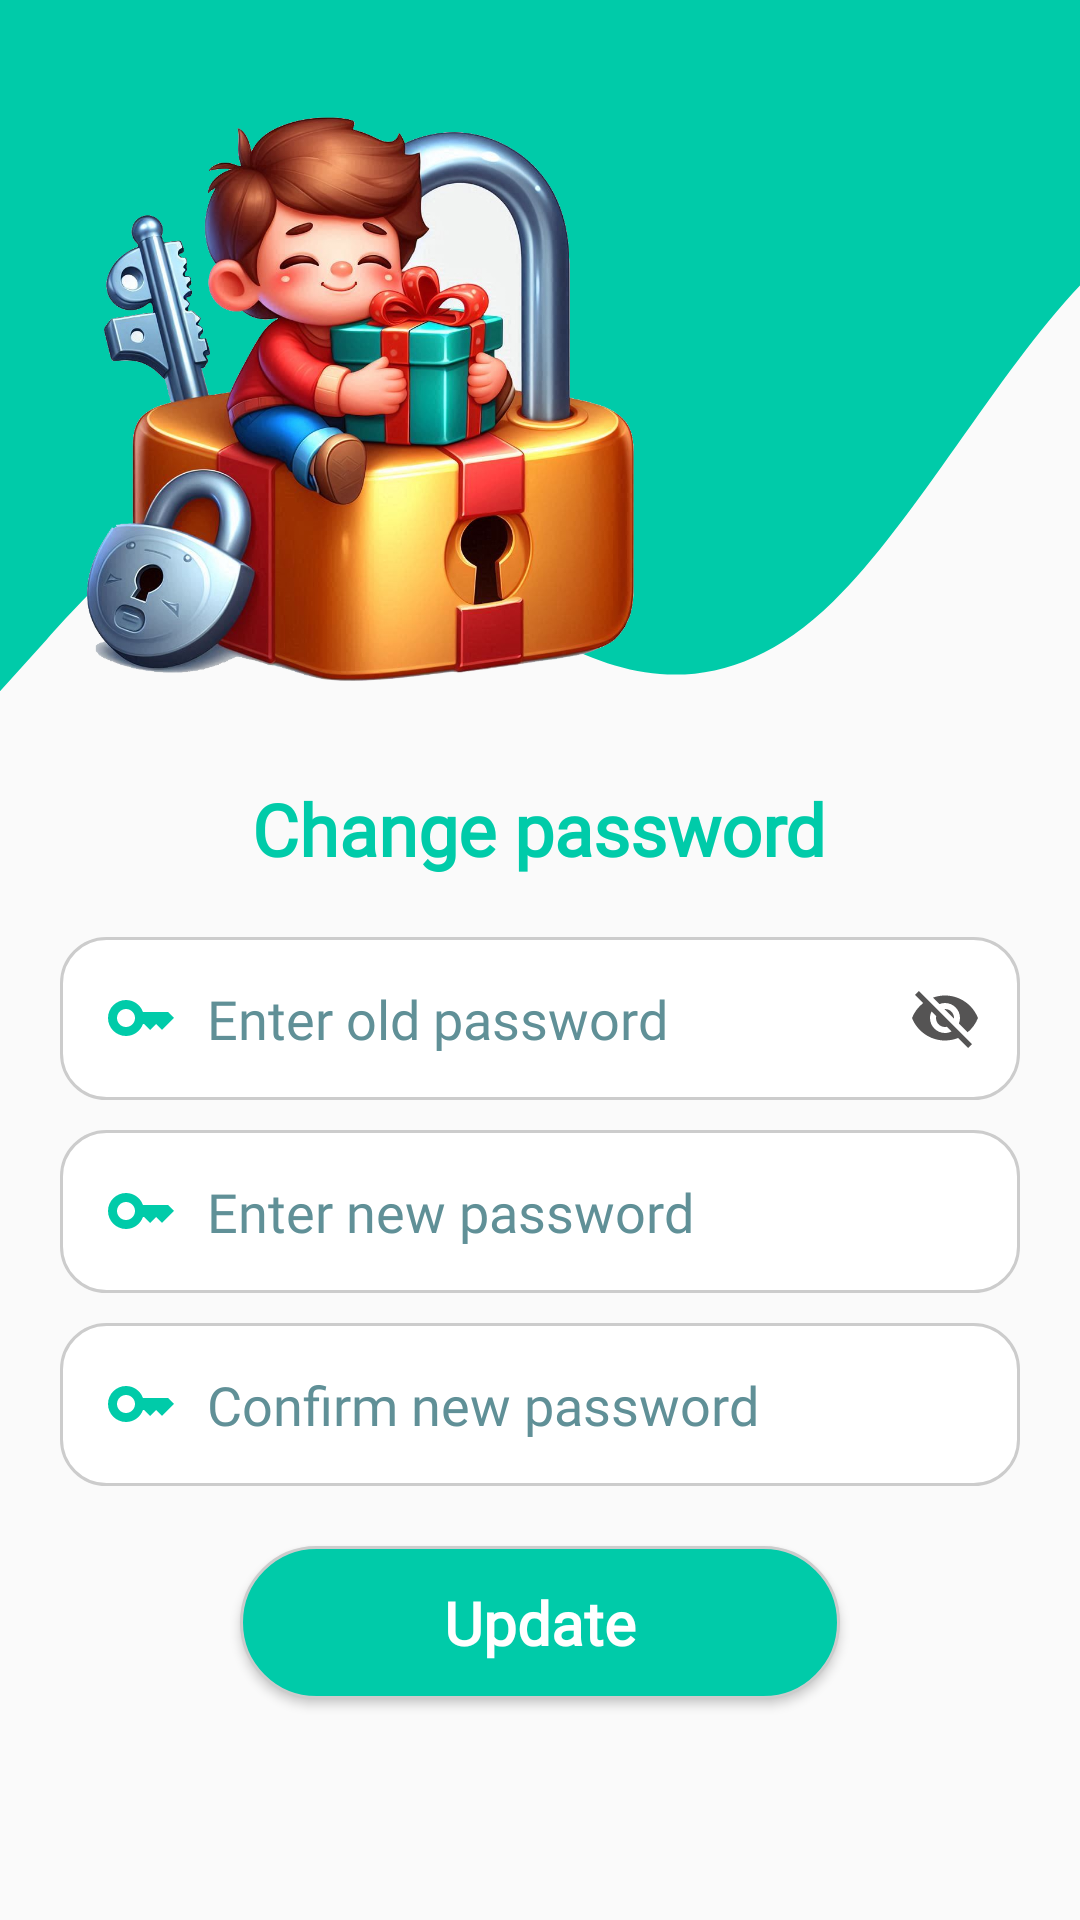

Locate icon controls on the screen. Image size 1080w x 1920h, boxes as (left=x1, top=y1, right=x2, bottom=y2).
visibility off: (left=912, top=991, right=978, bottom=1048)
